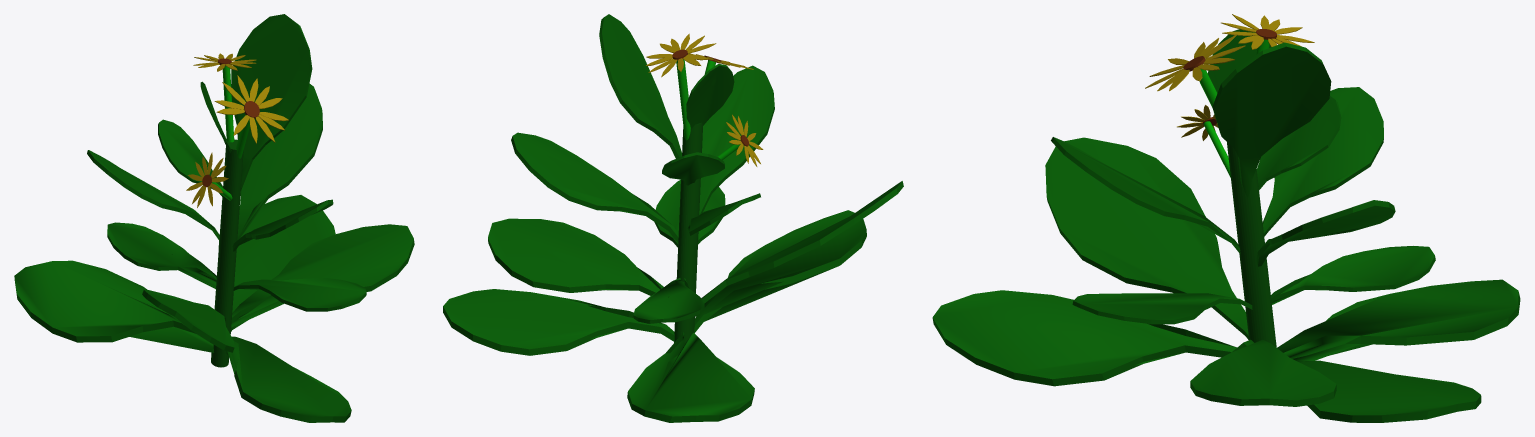
Rendered from Bitou_Bush.obj.
3 views of the same model, side by side, from view 1: azimuth 30°, elevation 25°; view 2: azimuth 150°, elevation 25°; view 3: azimuth 270°, elevation 25° (orthographic). The views are drawn at different scales.
Visible parts, largest first — view 1: Bitou_Bush; view 2: Bitou_Bush; view 3: Bitou_Bush.
Part boxes in pixels (left/top/right/bottom): Bitou_Bush: left=14, top=14, right=414, bottom=422; Bitou_Bush: left=443, top=14, right=903, bottom=422; Bitou_Bush: left=932, top=14, right=1520, bottom=422.
Bounding box in the file's own units: 0.5493 × 0.528 × 0.708.
